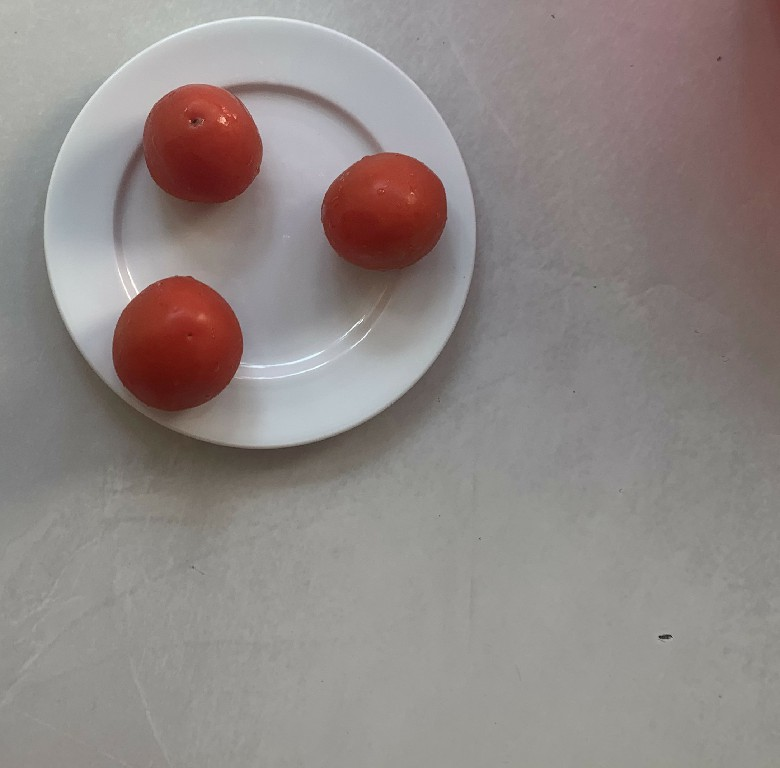OK: (108, 268, 248, 419), (136, 73, 268, 208), (318, 144, 448, 281)
